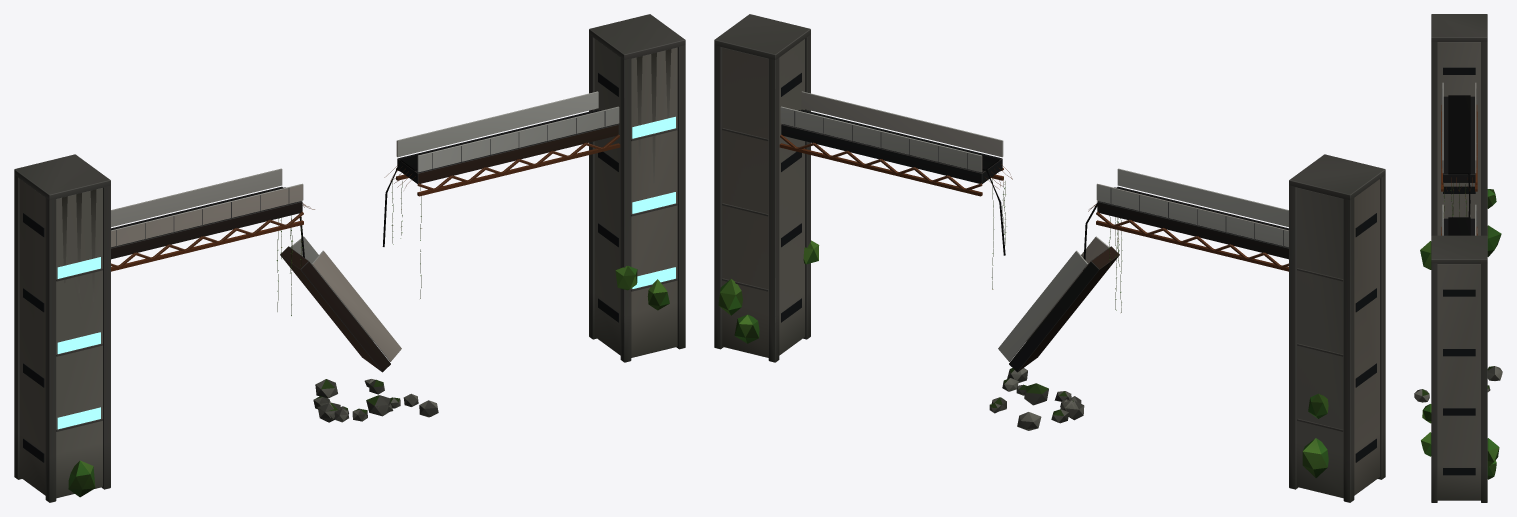
File: sky_bridge.glb
3 renders of one model, left to right at view 1: azimuth 30°, elevation 25°; view 2: azimuth 150°, elevation 25°; view 3: azimuth 270°, elevation 25°, orthographic. The views are drawn at different scales.
Visible parts, largest first — view 1: Mesh; view 2: Mesh; view 3: Mesh.
Boxes of the visible parts, x1=… form: Mesh: x1=14, y1=14, x2=685, y2=502; Mesh: x1=714, y1=14, x2=1385, y2=502; Mesh: x1=1414, y1=14, x2=1502, y2=502.
Size of the model in its own units: 88.6 by 41.45 by 13.52.
